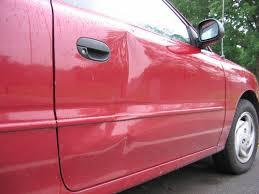dent: (108, 24, 157, 85)
